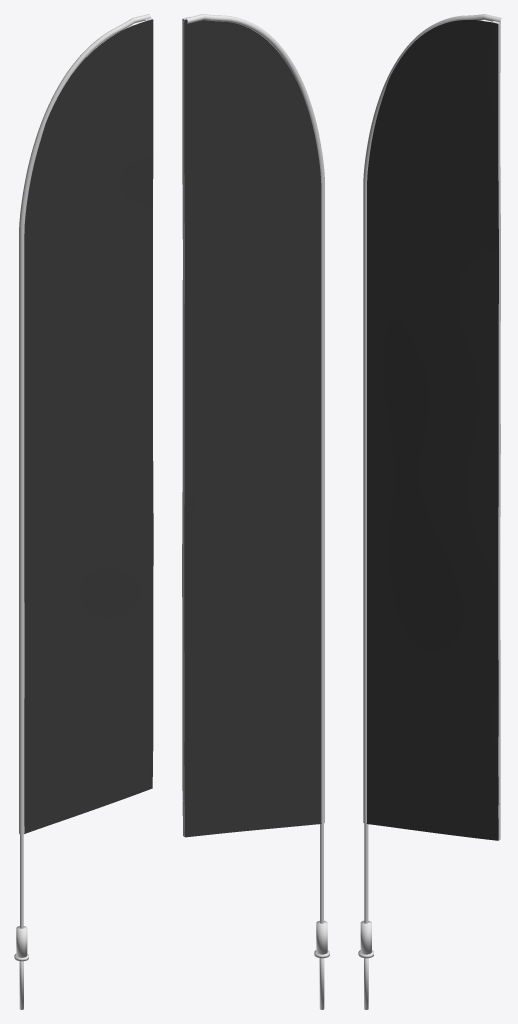
The model's file is flag14-double-spike.glb.
3 views of the same model, side by side, from view 1: azimuth 30°, elevation 25°; view 2: azimuth 210°, elevation 25°; view 3: azimuth 330°, elevation 25° (orthographic). The views are drawn at different scales.
Parts seen in each view (by area): view 1: side_front, pocket, pole, base_collar; view 2: side_back, pocket, edge, pole, base_collar; view 3: side_front, pocket, edge, pole, base_collar.
Part boxes in pixels (<box>): side_front: <box>24,19,153,833</box>; pocket: <box>19,14,150,834</box>; pole: <box>20,834,23,928</box>; base_collar: <box>16,926,27,957</box>; side_back: <box>184,19,321,837</box>; pocket: <box>186,14,324,823</box>; edge: <box>182,17,189,836</box>; pole: <box>320,823,323,923</box>; base_collar: <box>316,920,327,954</box>; side_front: <box>366,20,498,840</box>; pocket: <box>363,14,501,823</box>; edge: <box>492,21,500,840</box>; pole: <box>364,823,368,923</box>; base_collar: <box>360,921,371,954</box>.
Bounding box in the file's own units: 0.6337 × 4.34 × 0.0611.
1 material, 1 textured.
